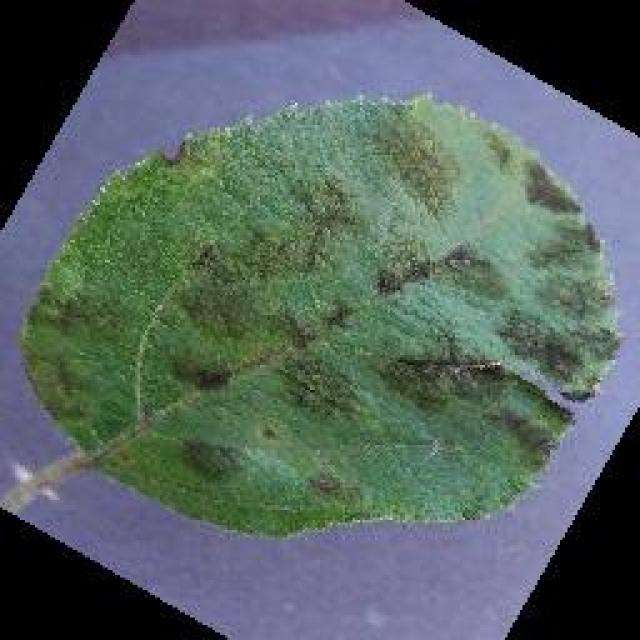apple scab disease: (15, 88, 623, 538)
